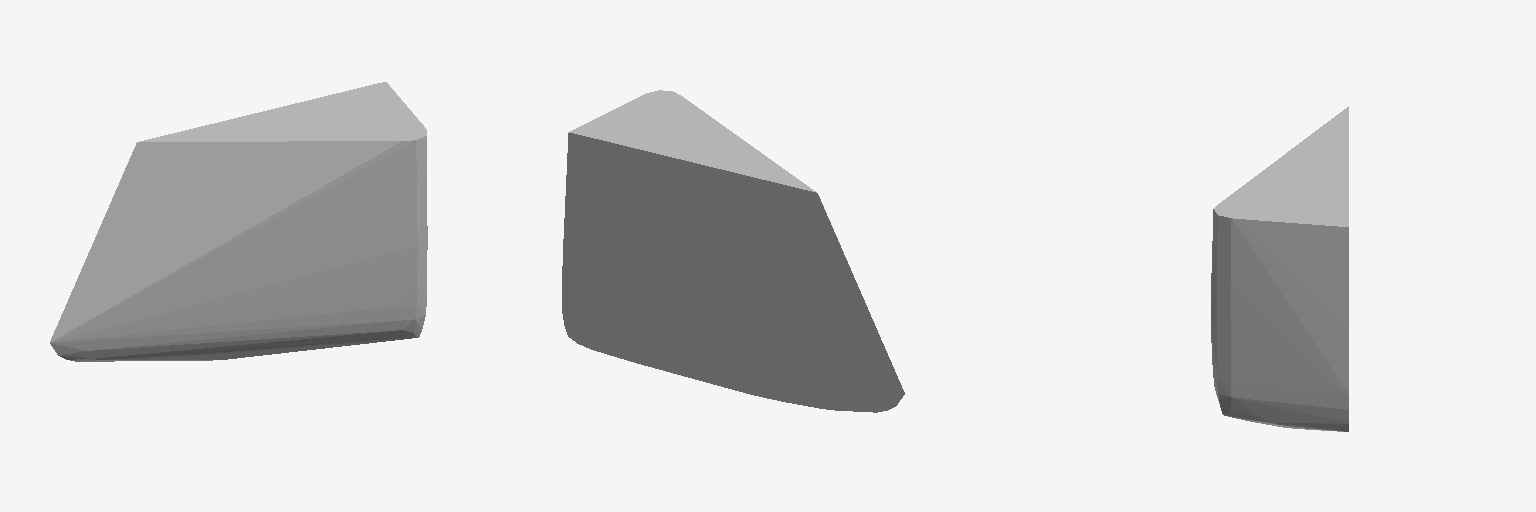
File: box_long_brown_M_collision_6.obj
3 renders of one model, left to right at view 1: azimuth 30°, elevation 25°; view 2: azimuth 150°, elevation 25°; view 3: azimuth 270°, elevation 25°, orthographic.
Size of the model in its own units: 0.0313 by 0.019 by 0.0109.